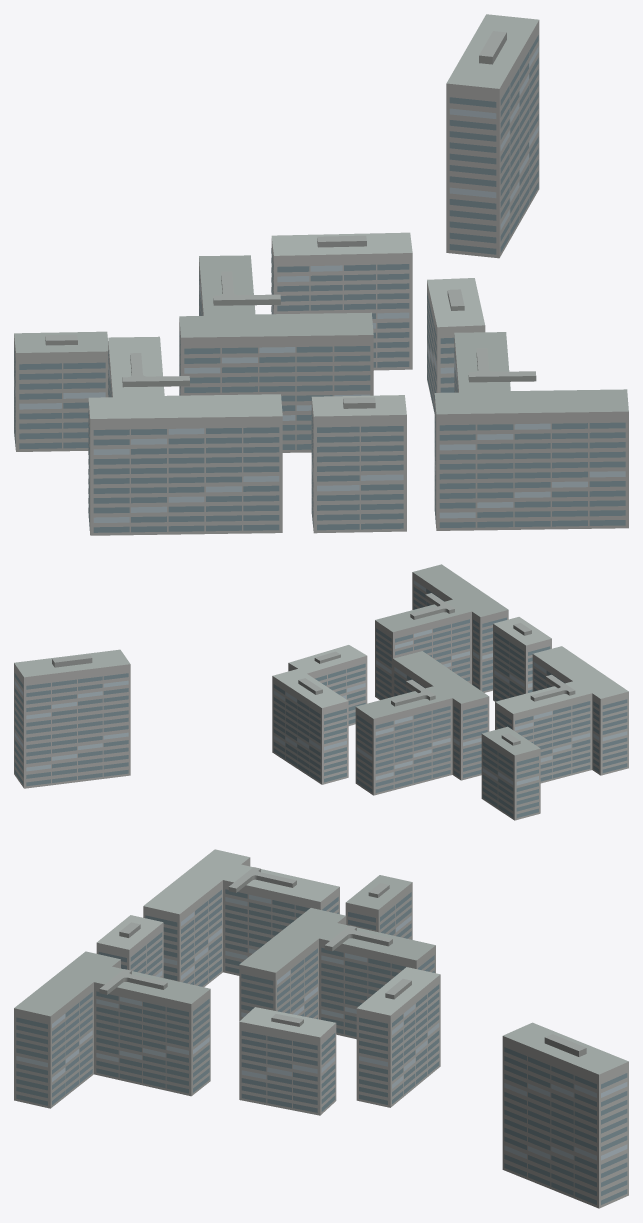
The model's file is apt-a15722004.glb.
3 renders of one model, top to bottom at view 1: azimuth 30°, elevation 25°; view 2: azimuth 150°, elevation 25°; view 3: azimuth 270°, elevation 25°, orthographic. The views are drawn at different scales.
Parts seen in each view (by area): view 1: apt-a15722004; view 2: apt-a15722004; view 3: apt-a15722004.
Boxes of the visible parts, <box> form: apt-a15722004: <box>14,14,628,535</box>; apt-a15722004: <box>14,564,628,820</box>; apt-a15722004: <box>14,849,628,1208</box>.
Bounding box in the file's own units: 196 × 47.81 × 190.
